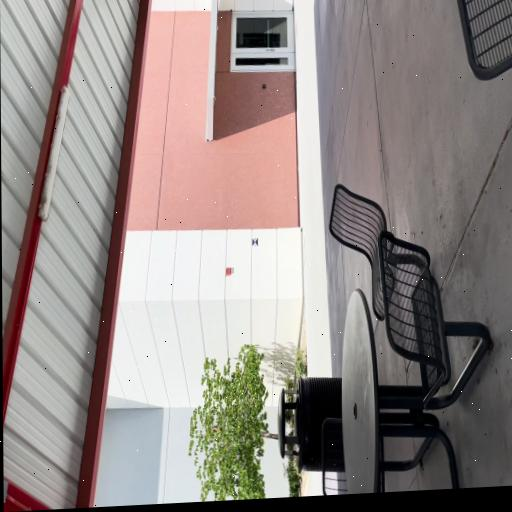target9: (252, 237, 258, 246)
